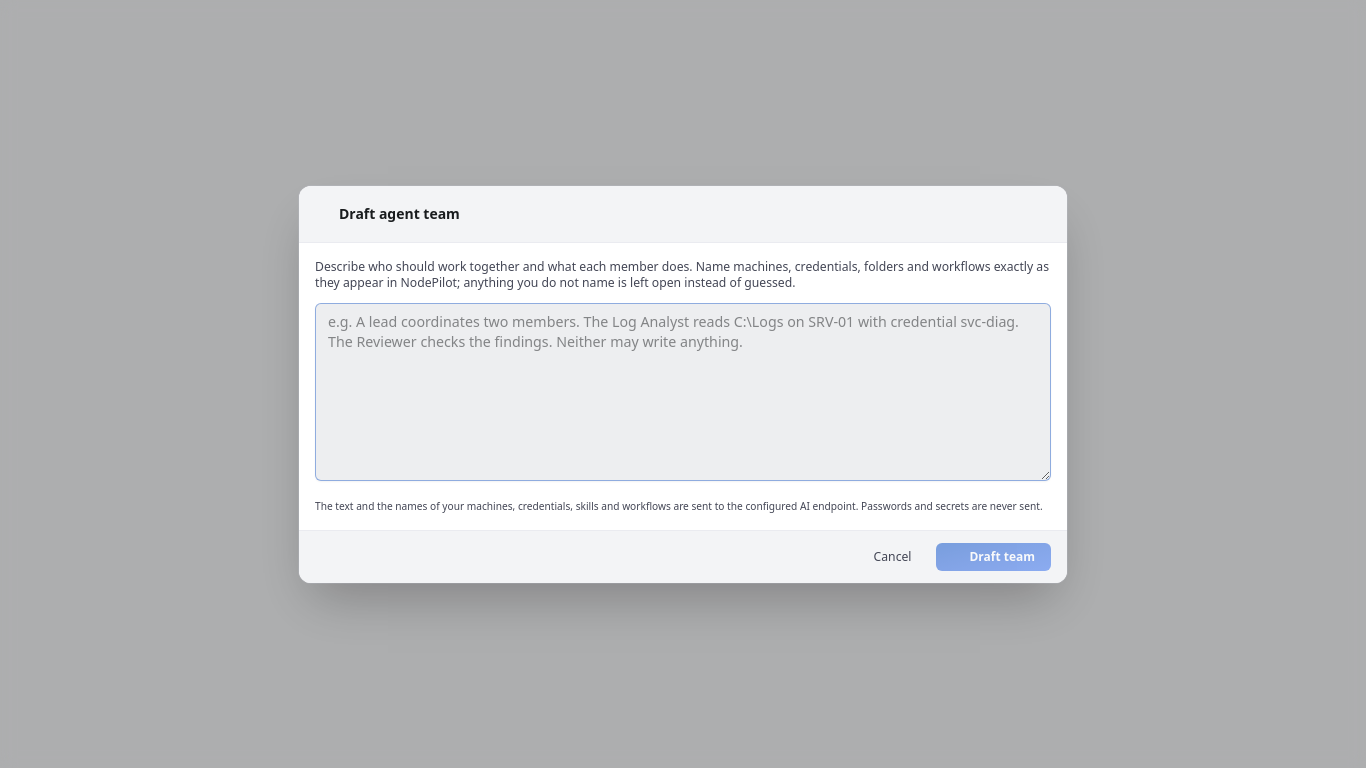
Test: AgentTeamDraftDialog › sends the description with the current config
Replace the text in the text box named "Team description" with "Analyst reads C:\\Logs on SRV-01" at (683, 392), box [315, 302, 1051, 480]
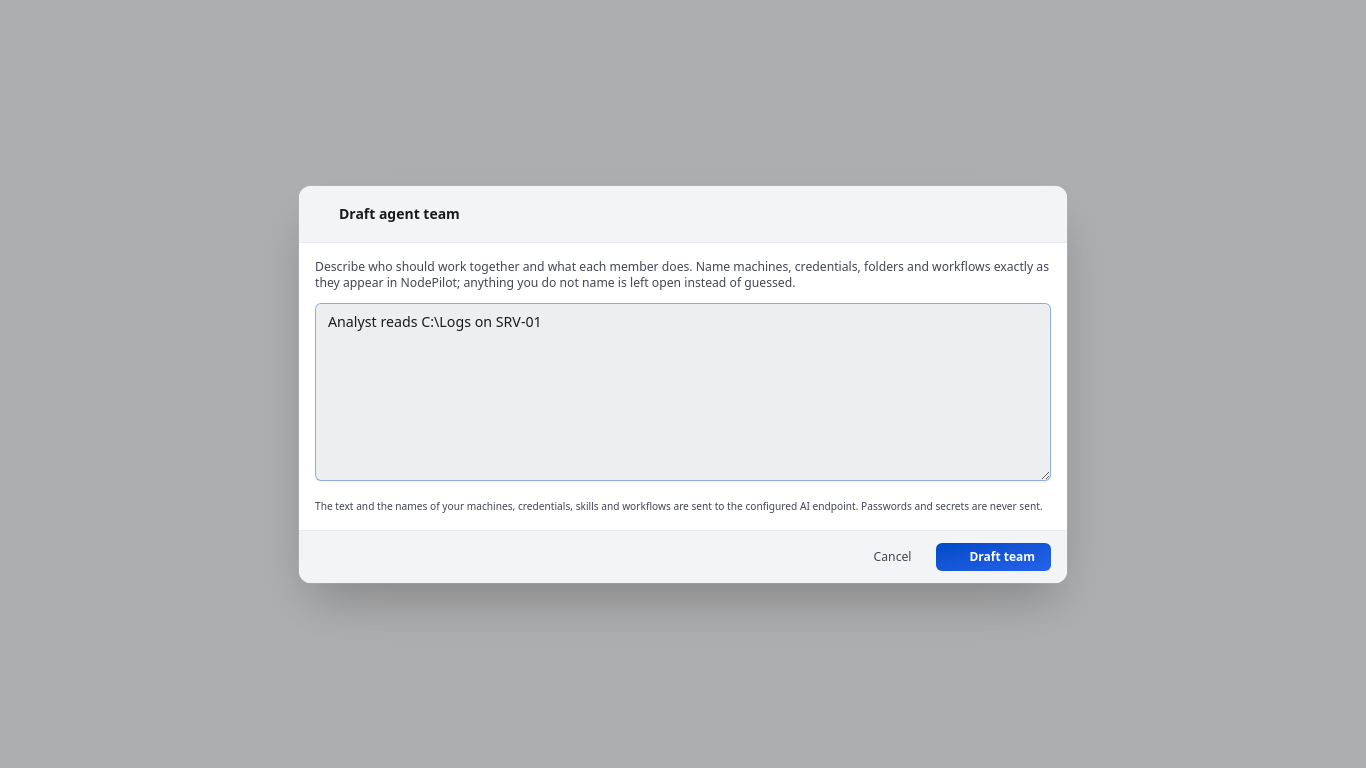
Click the button "Draft team" at (993, 556), box [936, 542, 1051, 570]
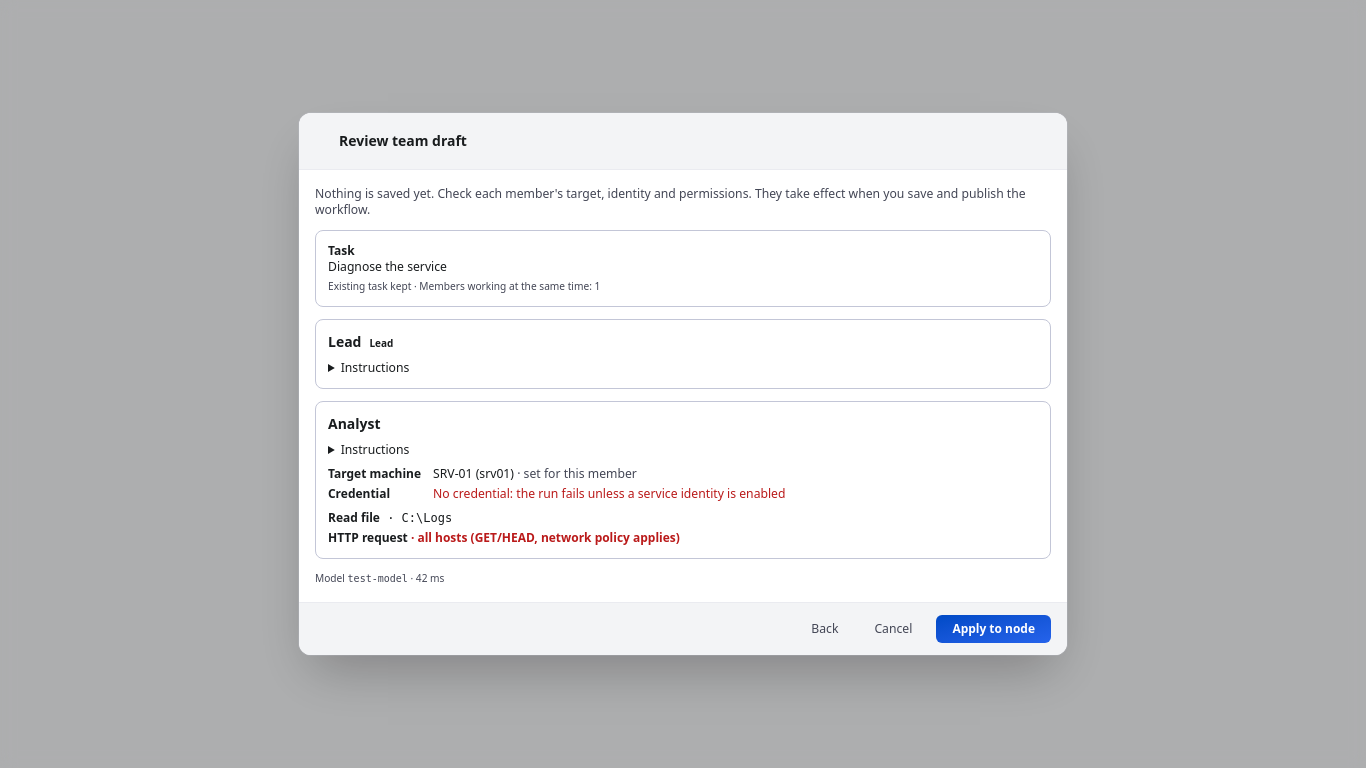
Result: the text "Review team draft" is shown at [339, 131, 467, 151]
